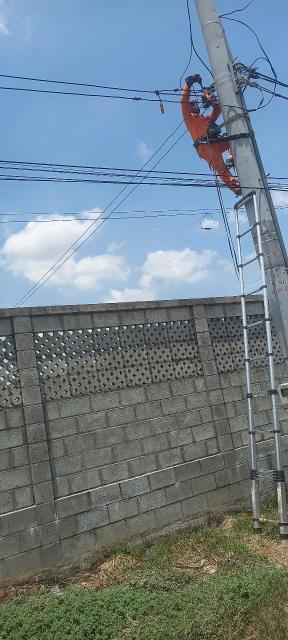gloves: (184, 72, 206, 84)
harness: (186, 135, 247, 145)
helmet: (184, 96, 200, 107)
shoes: (222, 151, 244, 169), (232, 184, 251, 195)
